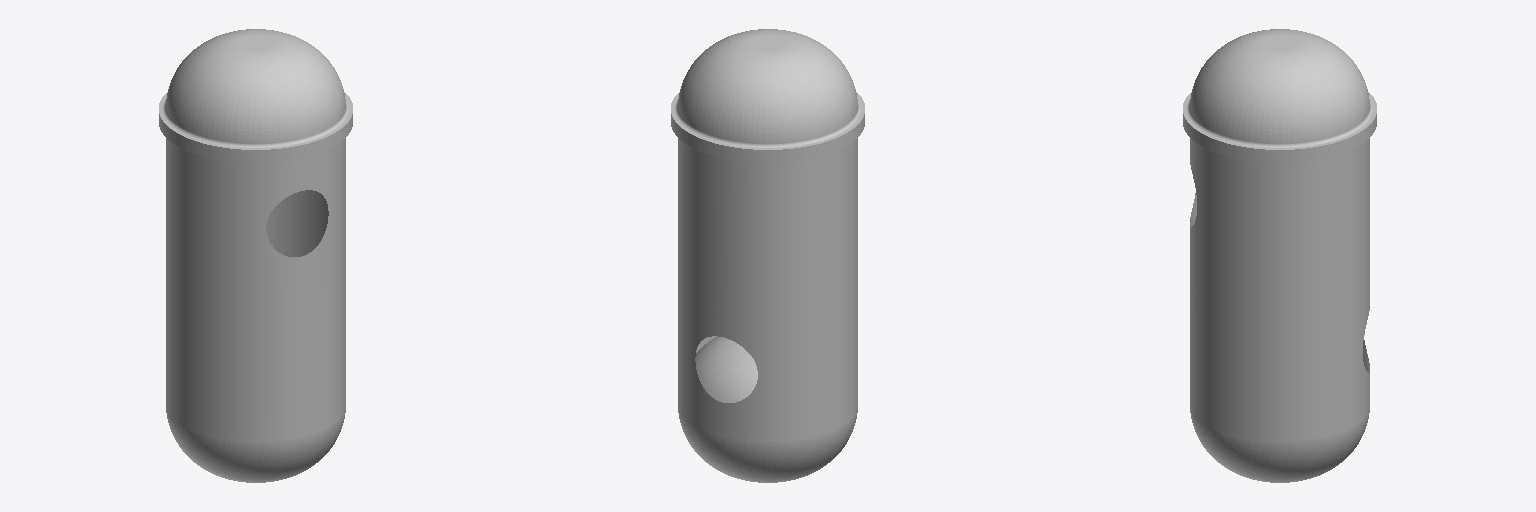
File: filter_body.obj
3 renders of one model, left to right at view 1: azimuth 30°, elevation 25°; view 2: azimuth 150°, elevation 25°; view 3: azimuth 270°, elevation 25°, orthographic.
Visible parts, largest first — view 1: obj1; view 2: obj1; view 3: obj1.
Part boxes in pixels (left/top/right/bottom): obj1: left=159, top=29, right=352, bottom=482; obj1: left=671, top=29, right=864, bottom=482; obj1: left=1183, top=29, right=1376, bottom=482.
Size of the model in its own units: 5.4 by 13 by 5.4.